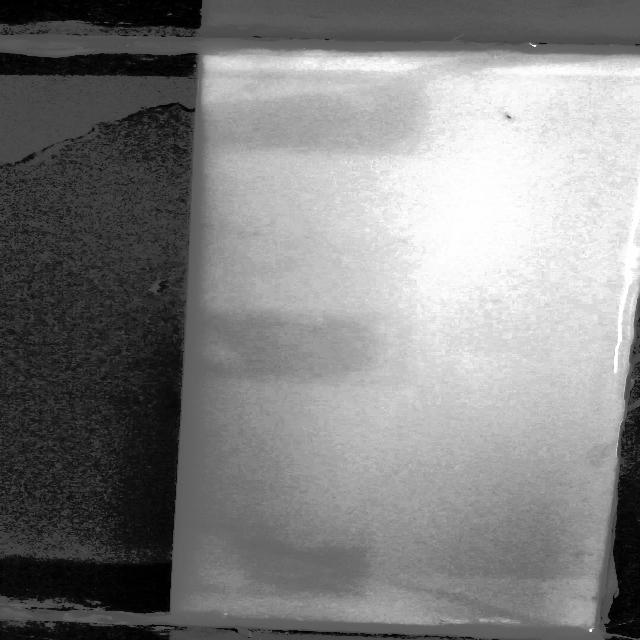shrimp: (498, 109, 515, 120)
